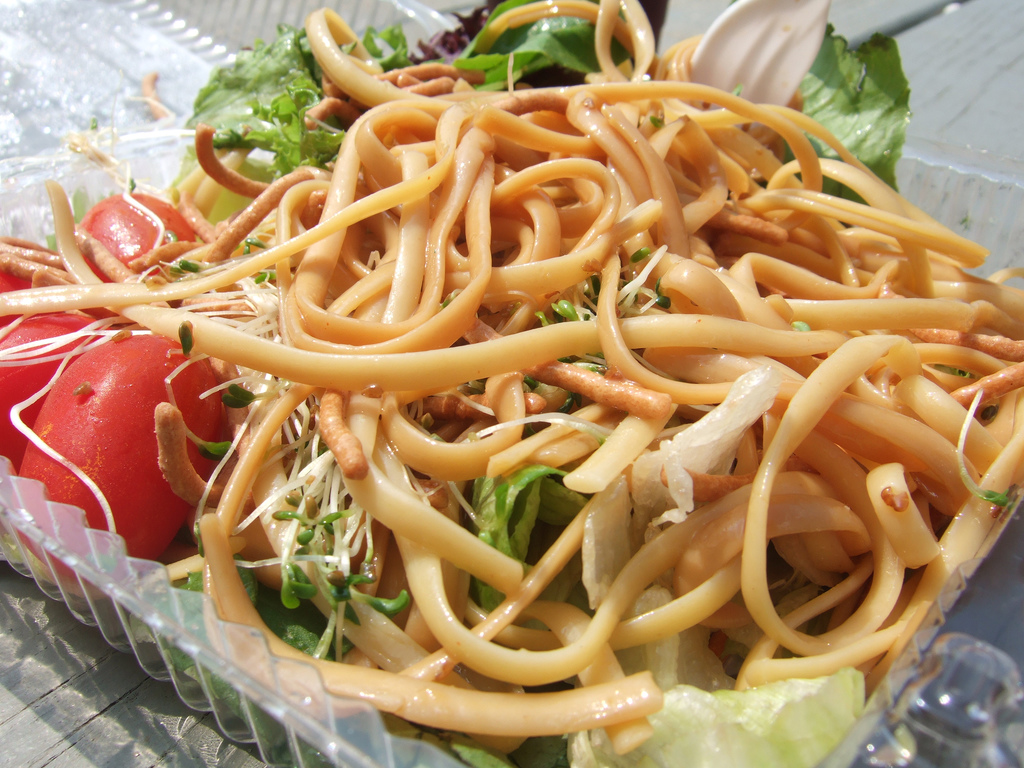chopped lettuce: (143, 22, 931, 135)
plain spaghetti: (269, 100, 998, 670)
